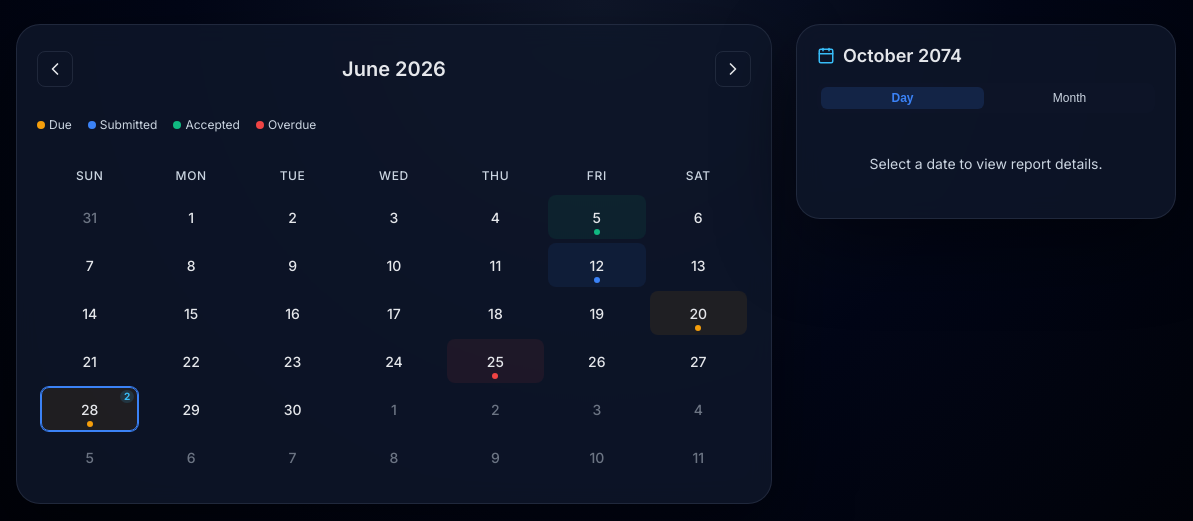
Test: RevenueReportingCalendar › Month navigation › navigates to next month when right arrow is clicked
The image size is (1193, 521).
Click the button named "next month".
click(733, 69)  # box top-left (715, 51), bottom-right (751, 87)
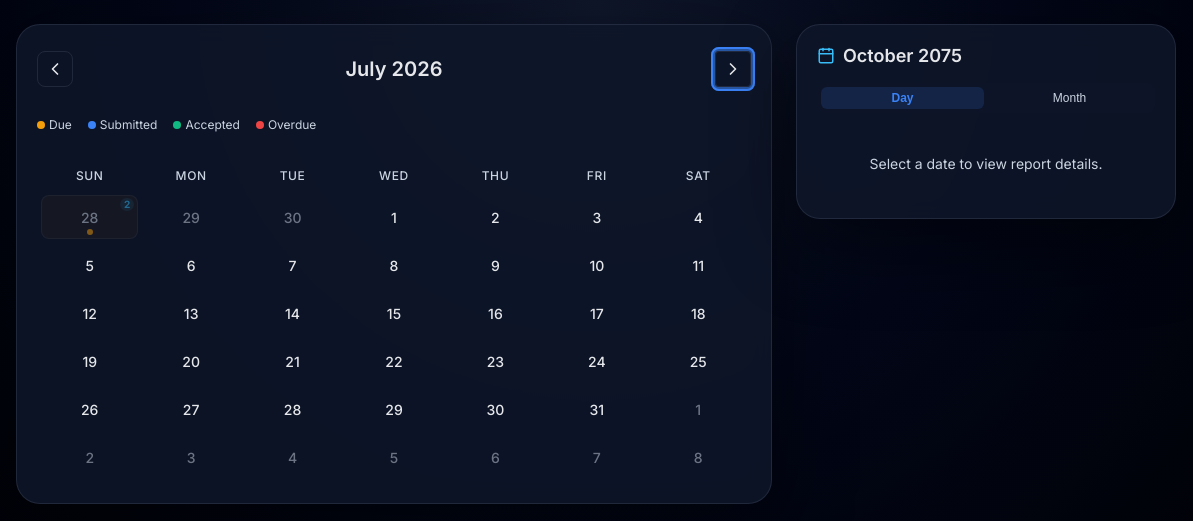
Now the heading "July 2026" is shown, box top-left (346, 57), bottom-right (442, 81)
